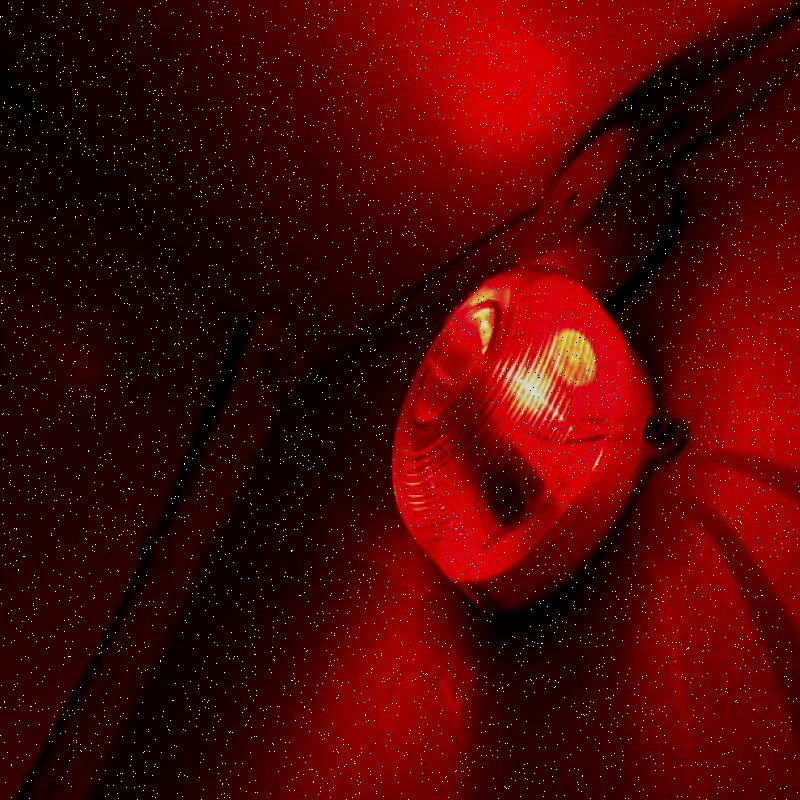AmbulanceSiren: (408, 232, 673, 622)
